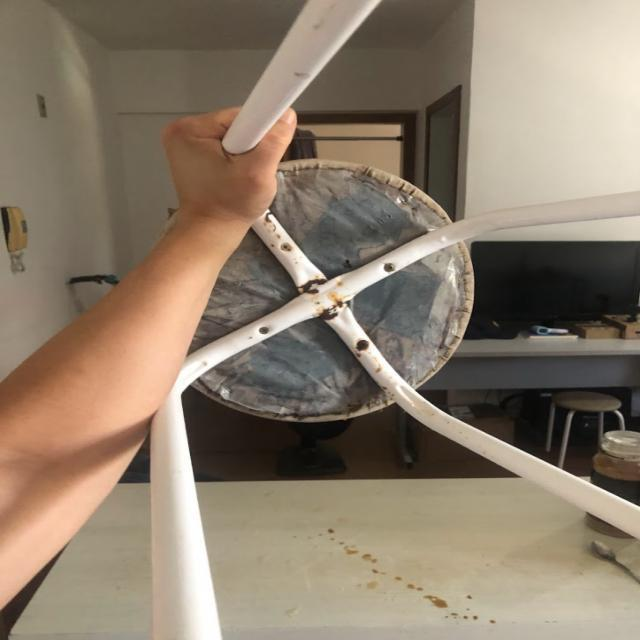Corrosion: (314, 299, 347, 322), (296, 278, 328, 295), (354, 338, 371, 351)
